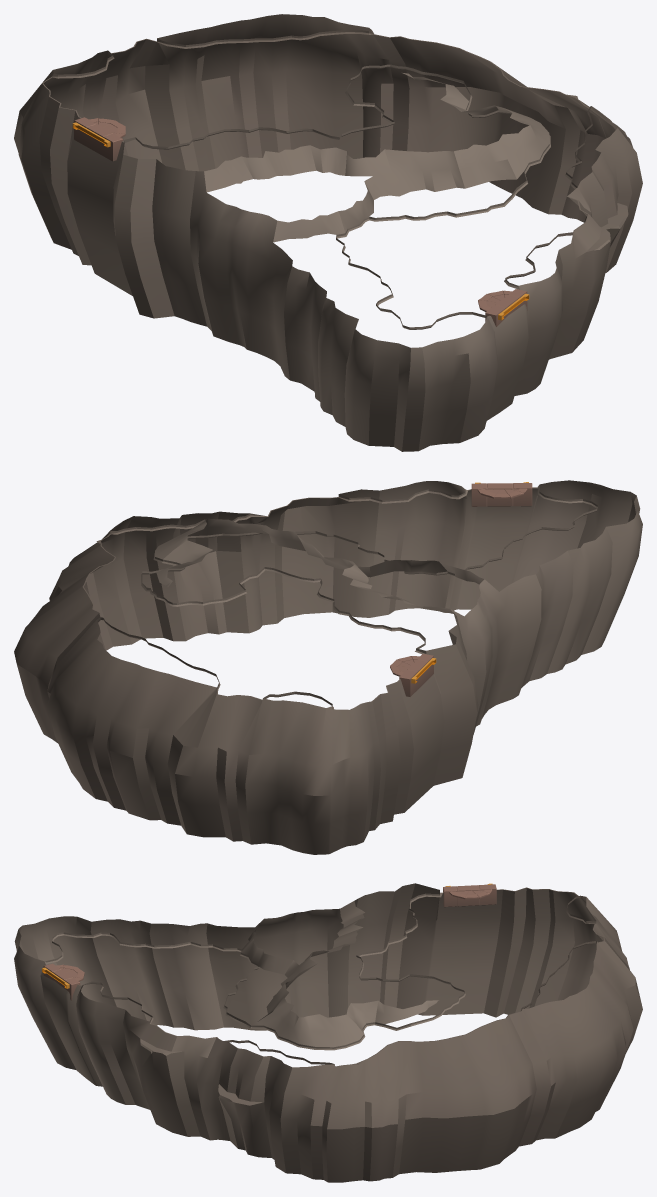
Rendered from islandB.001.fbx.
3 views of the same model, one above another, from view 1: azimuth 30°, elevation 25°; view 2: azimuth 150°, elevation 25°; view 3: azimuth 270°, elevation 25° (orthographic). The views are drawn at different scales.
Visible parts, largest first — view 1: Plane.004, Conector puente.002, Conector puente.001; view 2: Plane.004, Conector puente.001, Conector puente.002; view 3: Plane.004, Conector puente.002, Conector puente.001.
Part boxes in pixels (x1,y1,x2,y2): Plane.004: [14, 14, 642, 451]; Conector puente.002: [72, 117, 125, 161]; Conector puente.001: [478, 289, 529, 326]; Plane.004: [14, 480, 642, 854]; Conector puente.001: [471, 482, 532, 506]; Conector puente.002: [390, 654, 436, 696]; Plane.004: [14, 883, 642, 1182]; Conector puente.002: [443, 883, 496, 907]; Conector puente.001: [42, 963, 84, 1000].
Size of the model in its own units: 1904 by 593 by 2665.
